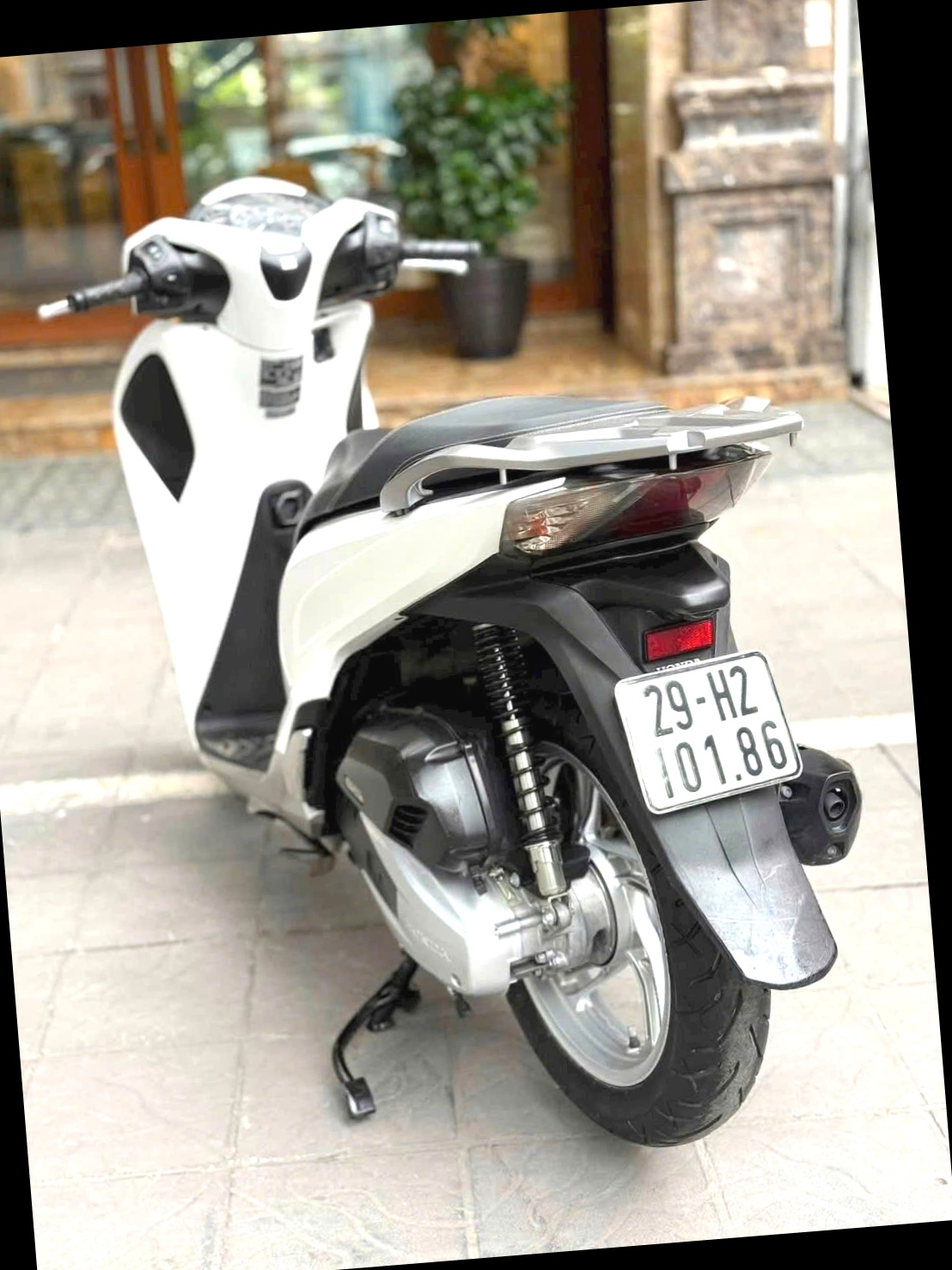Bien-so: (657, 685, 864, 869)
